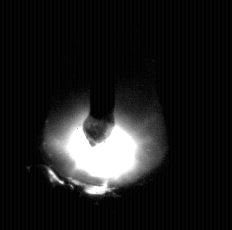arame: (91, 0, 116, 143)
poca: (43, 0, 167, 230)
